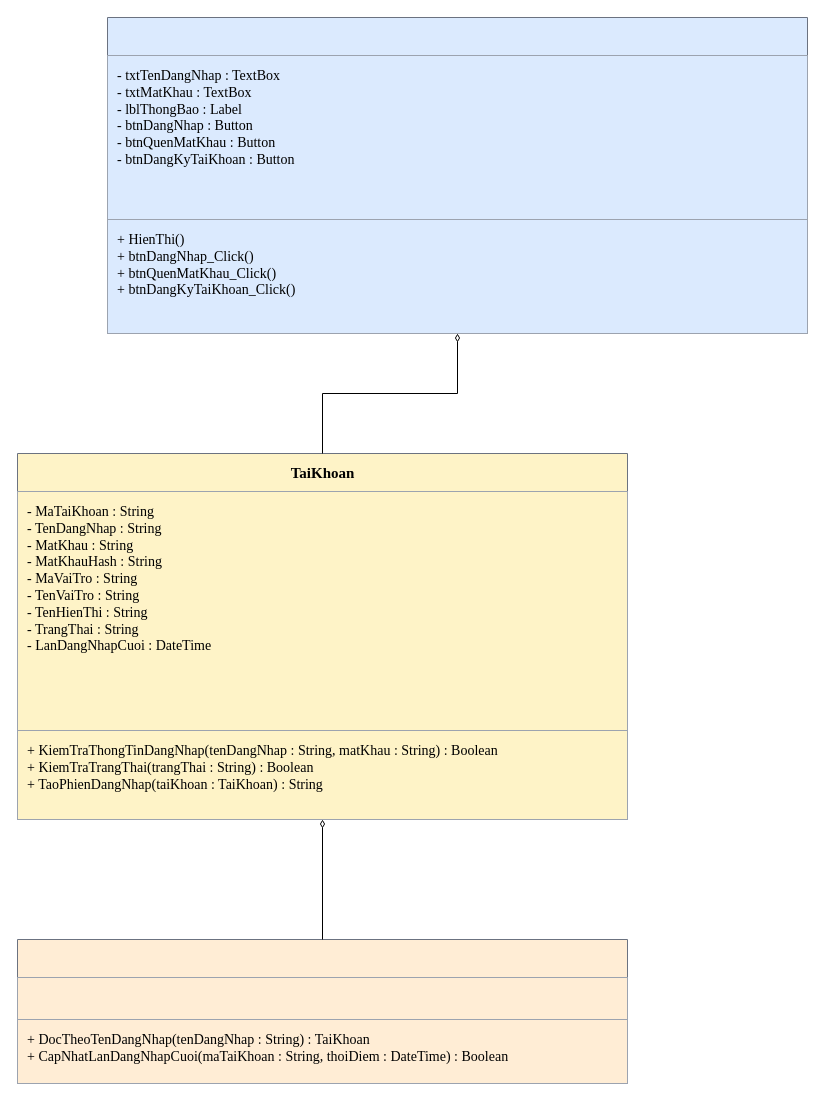
The diagram is 825 pixels wide and 1104 high, and some of its shapes have lost their labels. Here are the shapes that lost their labels. From the top down, the box of each, then its label:
(106, 16, 808, 334): MHDangNhap
(16, 938, 628, 1084): TaiKhoanDB
